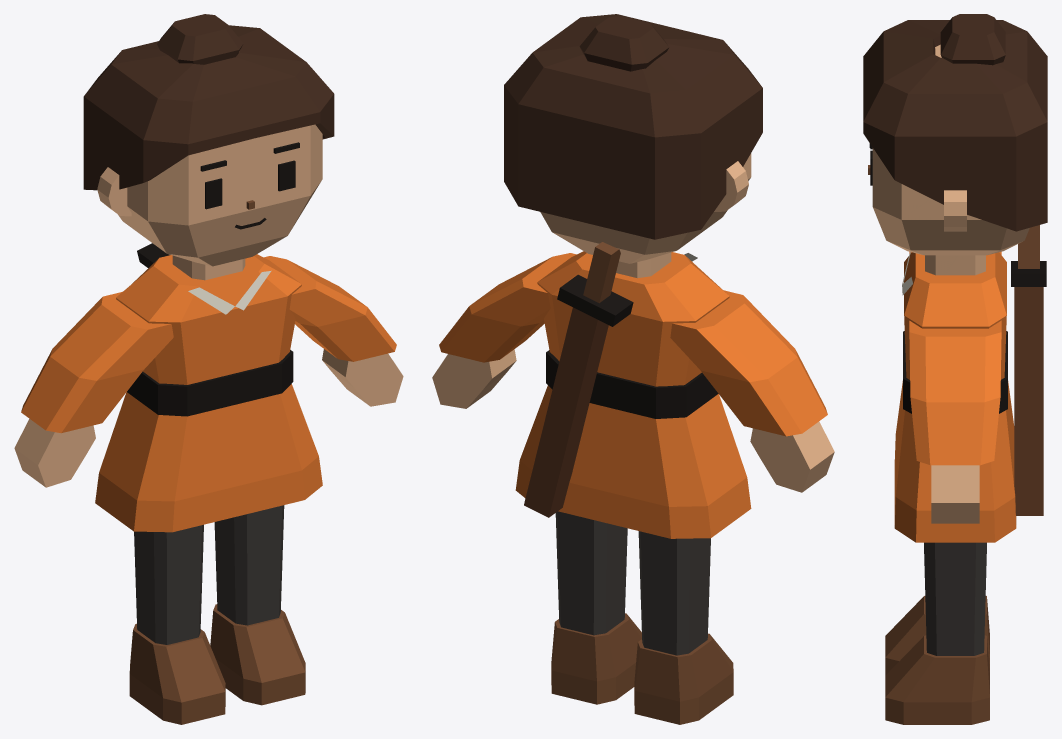
Rendered from orange-hero.glb.
3 renders of one model, left to right at view 1: azimuth 30°, elevation 25°; view 2: azimuth 150°, elevation 25°; view 3: azimuth 270°, elevation 25°, orthographic. The views are drawn at different scales.
Parts seen in each view (by area): view 1: Robe_angular_skirt, Head_planar_pentagon, Hair_Right, Robe_torso, Sleeve_R, Hair_Left, Trouser_R, Trouser_L, Boot_R, Boot_L, Sleeve_L, Belt_flat_black (+5 smaller); view 2: Hair_Right, Robe_angular_skirt, Hair_Left, Sleeve_R, Robe_torso, Sword_sheath_back, Trouser_R, Trouser_L, Boot_R, Sleeve_L, Boot_L, Belt_flat_black (+8 smaller); view 3: Hair_Left, Sleeve_L, Robe_angular_skirt, Boot_L, Trouser_L, Head_planar_pentagon, Sword_sheath_back, Robe_torso, Hair_Right, Hair_Bun, Mitten_L, Boot_R (+5 smaller).
Part boxes in pixels (box(x1,y1,x2,y2)): Robe_angular_skirt: box(95, 384, 322, 532); Head_planar_pentagon: box(118, 124, 322, 266); Hair_Right: box(83, 41, 254, 190); Robe_torso: box(116, 254, 301, 384); Sleeve_R: box(21, 292, 173, 433); Hair_Left: box(220, 25, 334, 139); Trouser_R: box(134, 524, 203, 644); Trouser_L: box(214, 505, 284, 625); Boot_R: box(129, 623, 225, 724); Boot_L: box(210, 604, 305, 705); Sleeve_L: box(264, 256, 396, 361); Belt_flat_black: box(127, 350, 293, 416); Hair_Right: box(586, 27, 762, 239); Robe_angular_skirt: box(515, 385, 751, 538); Hair_Left: box(504, 14, 668, 222); Sleeve_R: box(670, 290, 827, 436); Robe_torso: box(537, 251, 729, 386); Sword_sheath_back: box(524, 307, 608, 517); Trouser_R: box(638, 531, 710, 655); Trouser_L: box(555, 511, 627, 635); Boot_R: box(634, 633, 733, 724); Sleeve_L: box(439, 253, 576, 362); Boot_L: box(551, 613, 641, 704); Belt_flat_black: box(546, 350, 718, 418); Hair_Left: box(863, 46, 1047, 231); Sleeve_L: box(909, 320, 1001, 465); Robe_angular_skirt: box(894, 381, 1016, 542); Boot_L: box(885, 635, 989, 724); Trouser_L: box(924, 542, 986, 655); Head_planar_pentagon: box(872, 44, 1029, 255); Sword_sheath_back: box(1014, 287, 1043, 515); Robe_torso: box(904, 252, 1006, 379); Hair_Right: box(863, 20, 1047, 88); Hair_Bun: box(940, 14, 1005, 65); Mitten_L: box(931, 465, 979, 523); Boot_R: box(885, 596, 989, 675).
Size of the model in its own units: 2.05 by 3.5 by 0.88.
